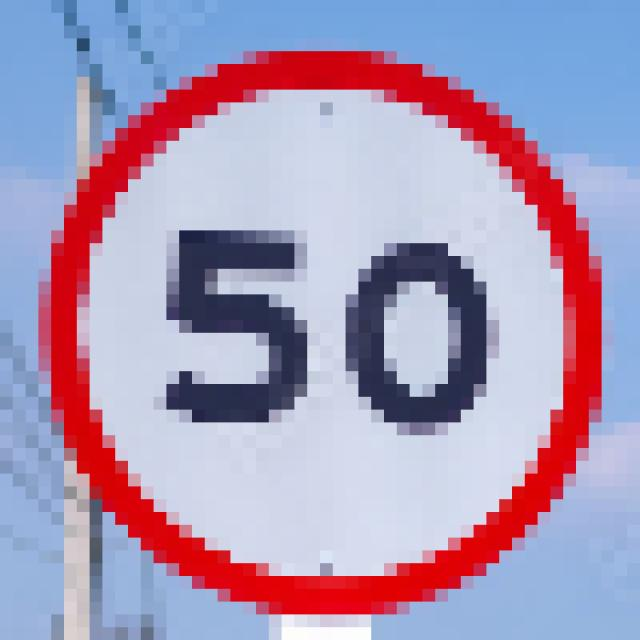Limite-50: (35, 46, 608, 618)
